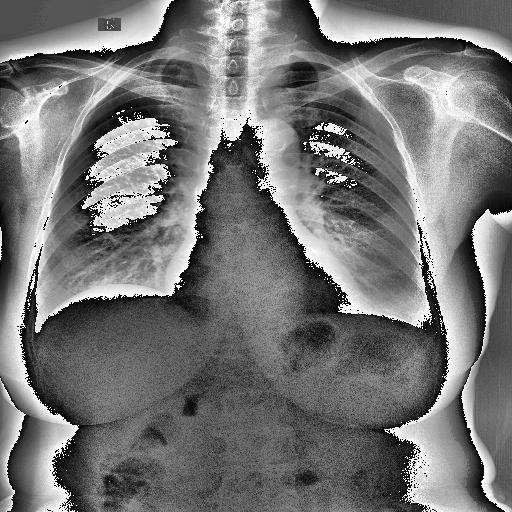0- Aortic enlargement: (244, 117, 301, 179), (248, 118, 299, 176), (249, 116, 301, 158)
11- Pleural thickening: (163, 58, 201, 68)
13- Pulmonary fibrosis: (144, 200, 166, 210)
2- Calcification: (279, 140, 290, 154)
3- Cardiomegaly: (161, 257, 380, 327)
